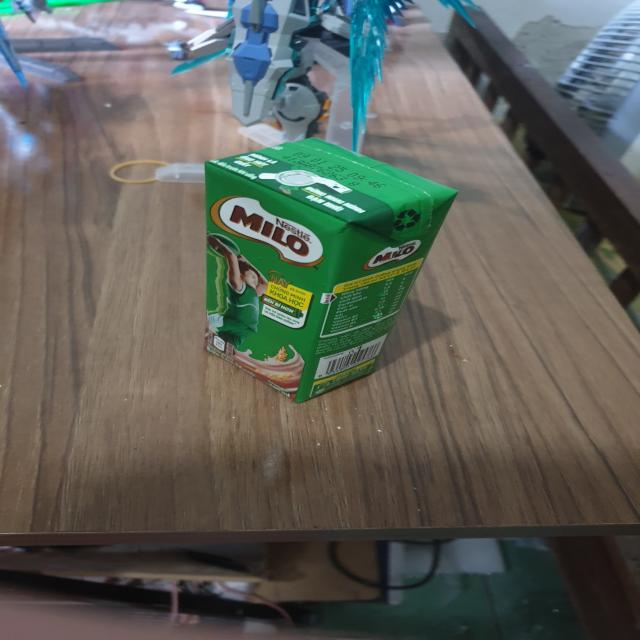Milo: (204, 138, 461, 403)
